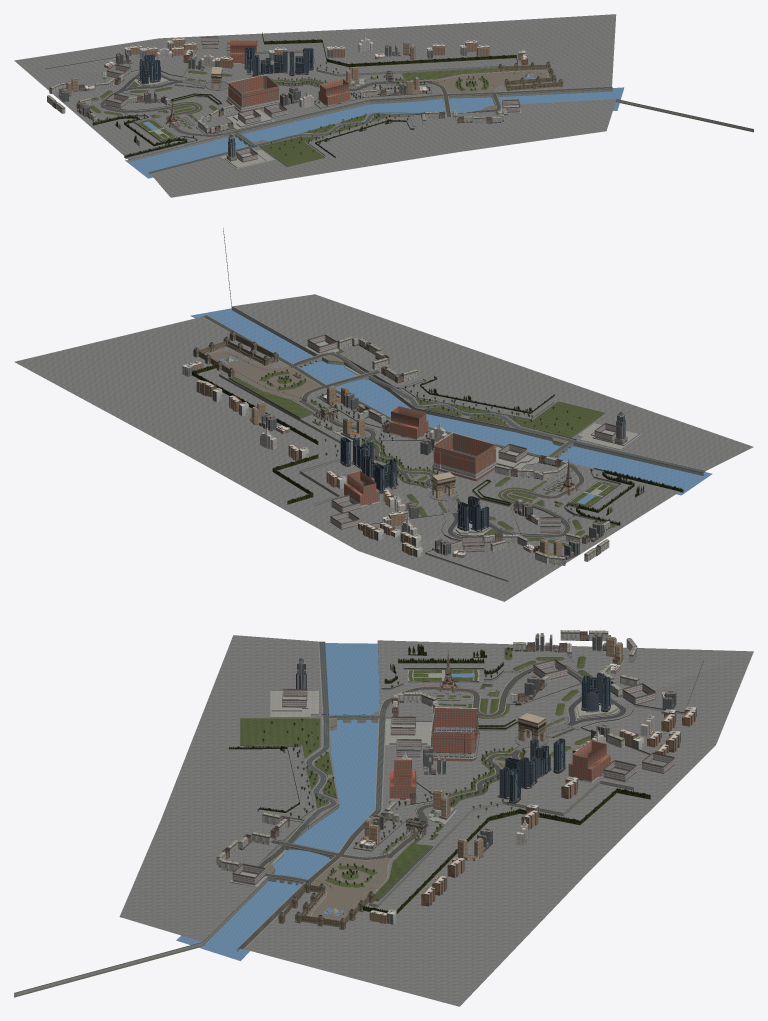
Rendered from track.glb.
The picture shows the model from 3 angles, top to bottom: view 1: azimuth 30°, elevation 25°; view 2: azimuth 150°, elevation 25°; view 3: azimuth 270°, elevation 25°; orthographic projection. The views are drawn at different scales.
Parts seen in each view (by area): view 1: dibiao_29, dibiao_28, shaidao_55_13, shaidao_55_8, shaidao_57_4, peilou_11_2, peilou_10_2 (×2), shaidao_55_1, shaidao_57_6, shaidao_55_9, dibiao_30, shaidao_54_10 (+12 smaller); view 2: dibiao_29, dibiao_28, shaidao_55_13, shaidao_55_8, peilou_11_2, peilou_10_2 (×2), shaidao_55_9, dibiao_30, shaidao_55_1, shaidao_54_10, shaidao_57_6, shaidao_56_5 (+4 smaller); view 3: dibiao_29, dibiao_28, shaidao_55_13, shaidao_55_8, peilou_10_2 (×2), shaidao_55_1, peilou_11_2, dibiao_30, shaidao_56_5, shaidao_57_6, shaidao_57_1, guangchang_5_2 (+12 smaller).
Part boxes in pixels (<box>): dibiao_29: <box>14,14,616,159</box>; dibiao_28: <box>151,99,616,197</box>; shaidao_55_13: <box>125,87,624,178</box>; shaidao_55_8: <box>260,114,386,166</box>; shaidao_57_4: <box>256,50,612,104</box>; peilou_11_2: <box>226,75,280,112</box>; peilou_10_2 (×2): <box>230,40,350,105</box>; shaidao_55_1: <box>148,99,414,173</box>; shaidao_57_6: <box>262,32,517,67</box>; shaidao_55_9: <box>128,101,417,174</box>; dibiao_30: <box>435,73,542,93</box>; shaidao_54_10: <box>92,93,221,157</box>; dibiao_29: <box>14,317,679,601</box>; dibiao_28: <box>232,294,753,470</box>; shaidao_55_13: <box>190,308,712,495</box>; shaidao_55_8: <box>416,399,604,437</box>; peilou_11_2: <box>432,433,495,481</box>; peilou_10_2 (×2): <box>344,406,428,505</box>; shaidao_55_9: <box>390,379,703,492</box>; dibiao_30: <box>214,353,320,398</box>; shaidao_55_1: <box>386,388,705,472</box>; shaidao_54_10: <box>472,469,682,524</box>; shaidao_57_6: <box>192,364,318,504</box>; shaidao_56_5: <box>223,228,393,392</box>; dibiao_29: <box>244,640,753,1006</box>; dibiao_28: <box>119,635,339,941</box>; shaidao_55_13: <box>176,643,379,960</box>; shaidao_55_8: <box>240,718,336,807</box>; peilou_10_2 (×2): <box>389,740,610,798</box>; shaidao_55_1: <box>303,641,386,824</box>; peilou_11_2: <box>431,708,479,761</box>; dibiao_30: <box>315,857,383,919</box>; shaidao_56_5: <box>14,825,334,997</box>; shaidao_57_6: <box>363,788,650,914</box>; shaidao_57_1: <box>238,810,416,948</box>; guangchang_5_2: <box>270,690,318,717</box>.
Bounding box in the file's own units: 34.44 × 2 × 29.12.
49 materials, 49 textured.
